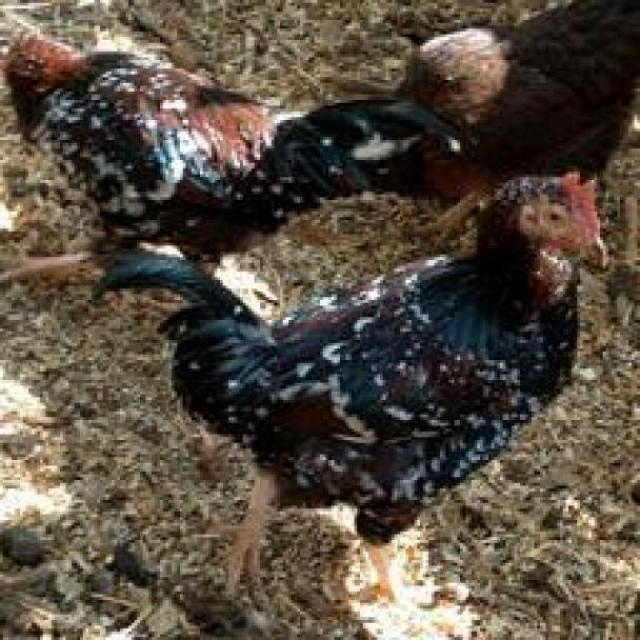Chicken: (151, 164, 631, 594)
